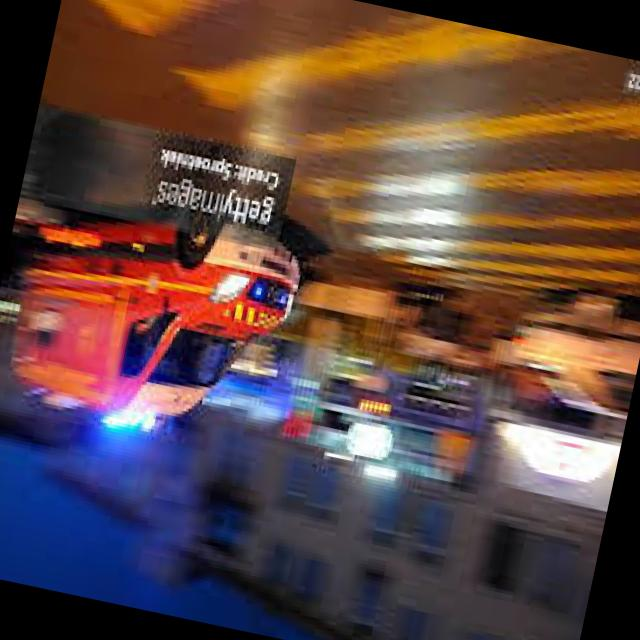ambulance: (0, 182, 315, 463), (88, 374, 186, 456)
